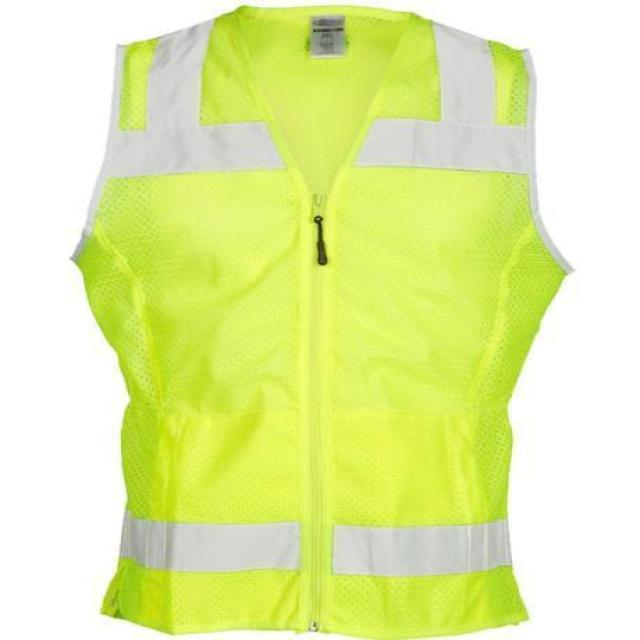Vest: (70, 0, 574, 638)
